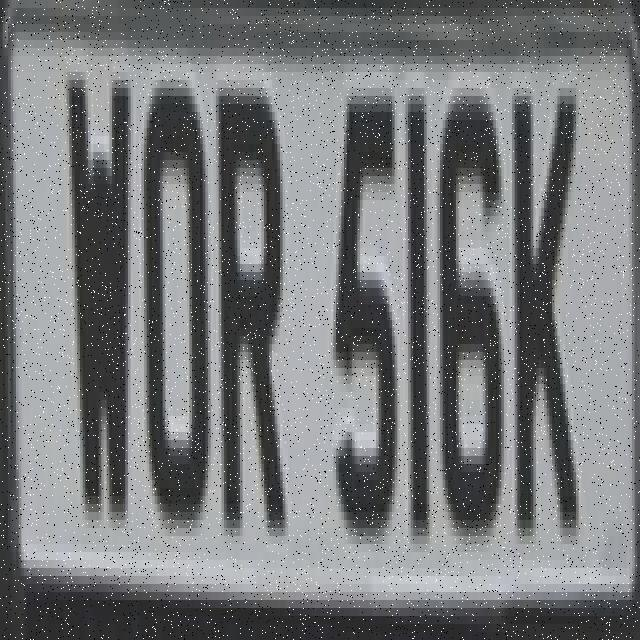licenseplate: (9, 44, 634, 606)
